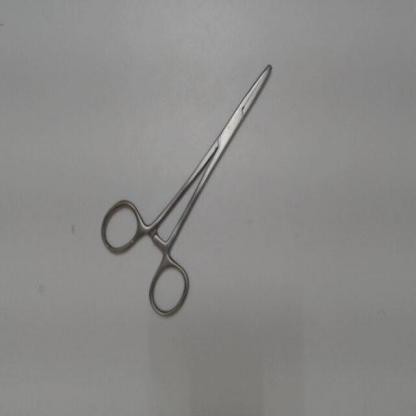Mayo Needle Holder: (90, 48, 285, 326)
